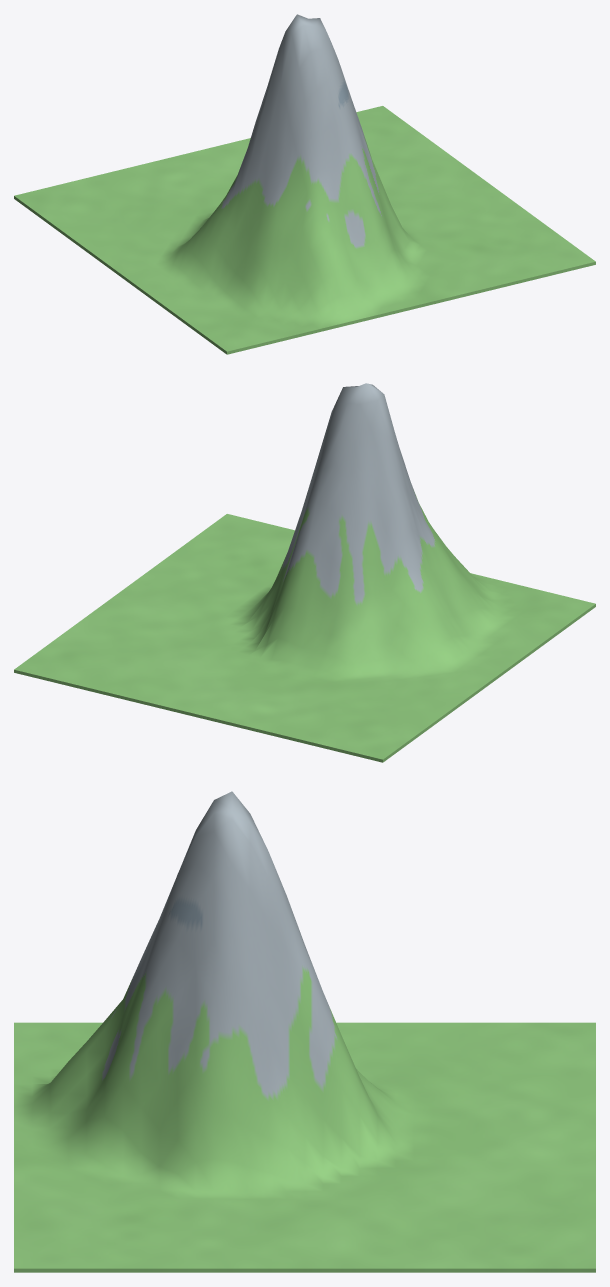
File: Grass_RockyMountains_10.obj
3 renders of one model, top to bottom at view 1: azimuth 30°, elevation 25°; view 2: azimuth 150°, elevation 25°; view 3: azimuth 270°, elevation 25°, orthographic. The views are drawn at different scales.
Bounding box in the file's own units: 10 × 6.36 × 10.
1 material, 1 textured.
